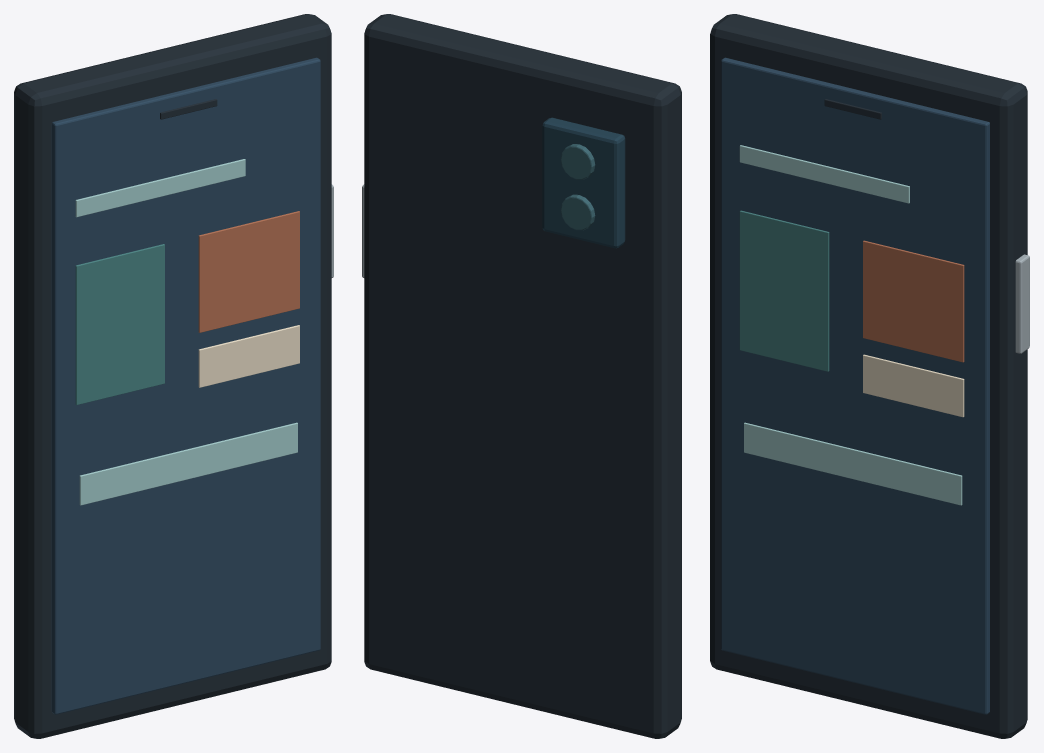
File: smartphone.glb
The picture shows the model from 3 angles, left to right: view 1: azimuth 30°, elevation 25°; view 2: azimuth 150°, elevation 25°; view 3: azimuth 330°, elevation 25°; orthographic projection.
Visible parts, largest first — view 1: MESH_smartphone; view 2: MESH_smartphone; view 3: MESH_smartphone.
Boxes of the visible parts, x1,y1,x2,y2 form: MESH_smartphone: [14, 14, 333, 738]; MESH_smartphone: [362, 14, 681, 738]; MESH_smartphone: [710, 14, 1029, 738].
Bounding box in the file's own units: 0.0764 × 0.153 × 0.0171.
